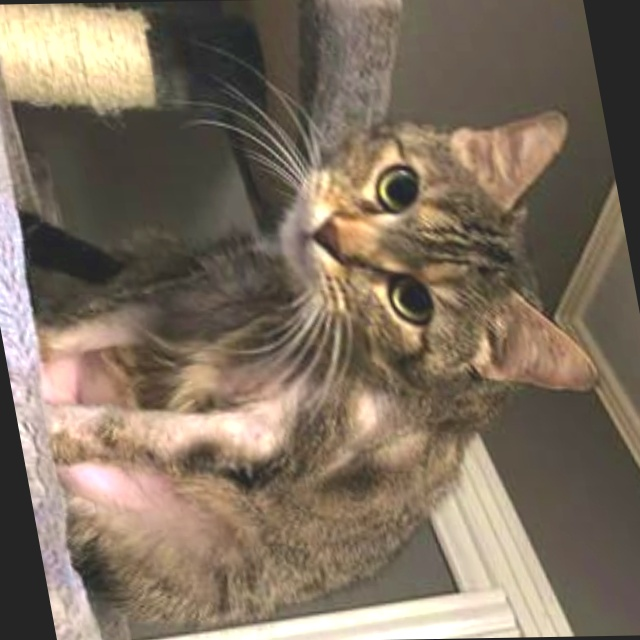hairloss: (106, 406, 285, 451), (64, 473, 210, 521), (34, 303, 153, 361)
